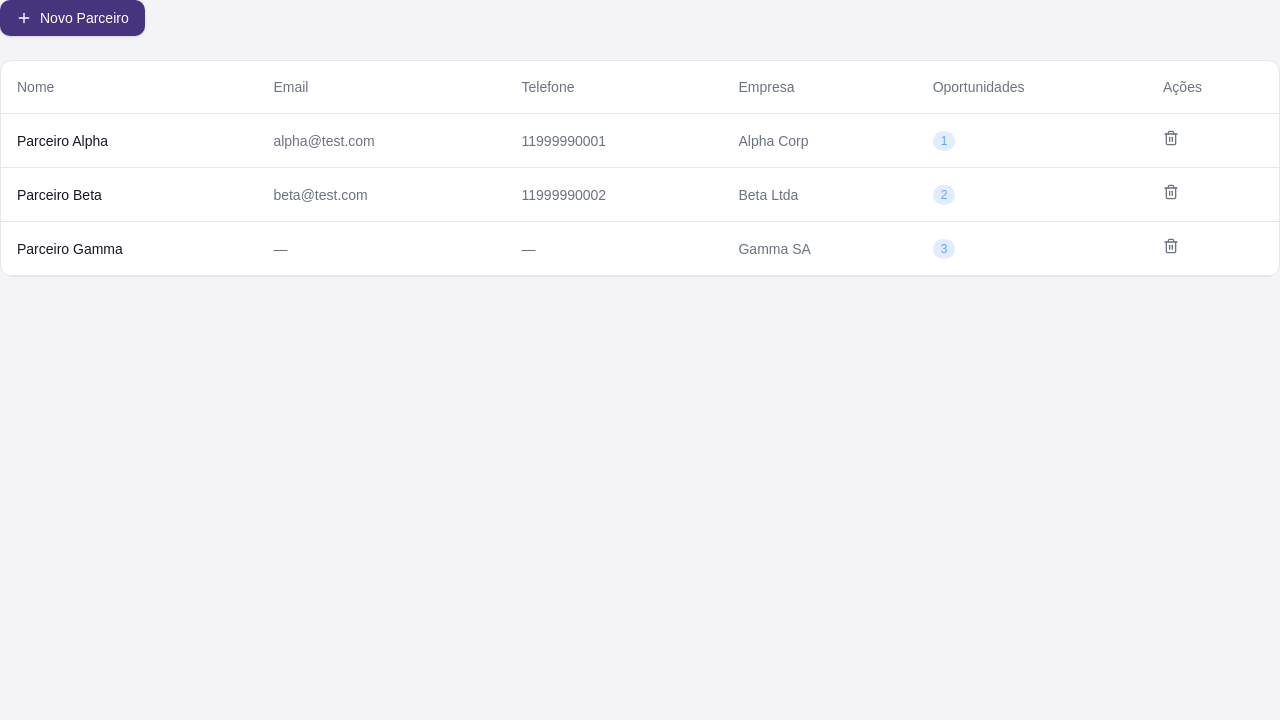
Test case: ParceirosClient › abre dialog ao clicar em novo parceiro
The image size is (1280, 720).
Click the button "Novo Parceiro" at x=72, y=18, box [0,0,145,36]
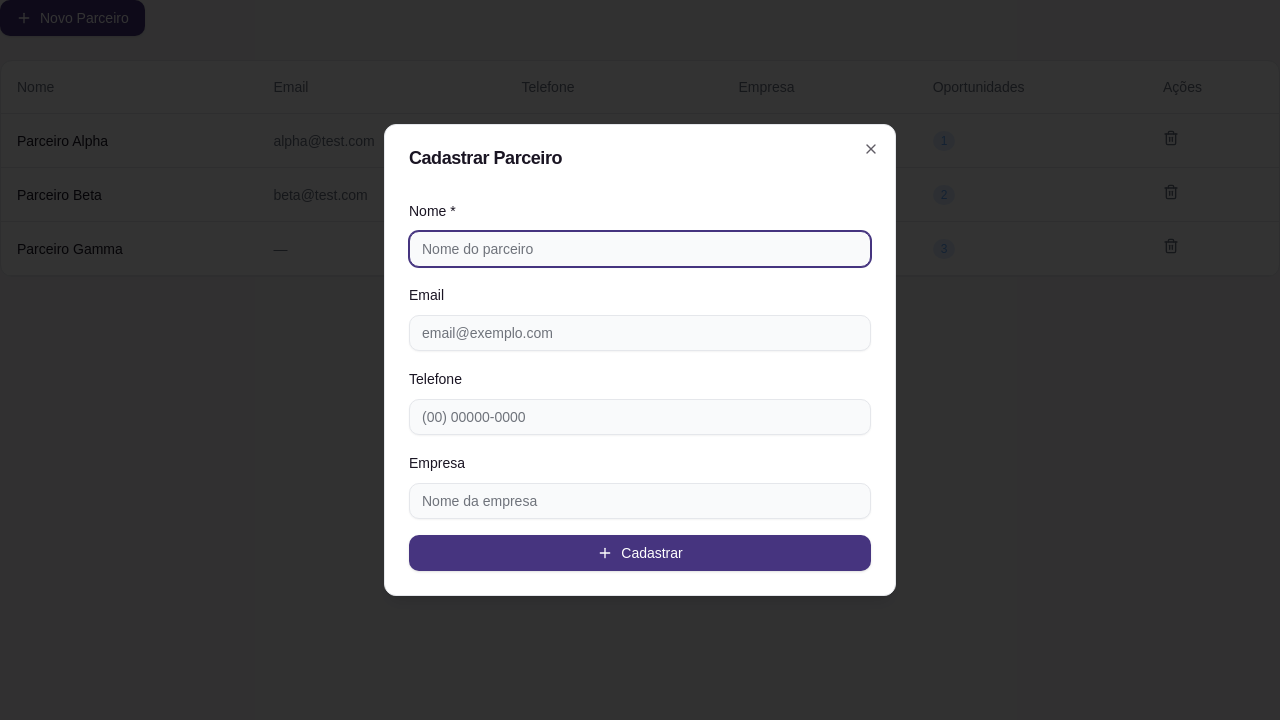
Expected: the heading "Cadastrar Parceiro" is shown, [409,148,562,168]
Expected: the field with placeholder "Nome do parceiro" is shown, [409,231,871,267]
